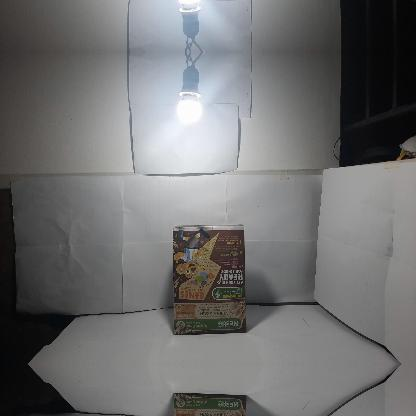Koko-Krunch: (172, 223, 246, 334), (172, 393, 247, 415)
